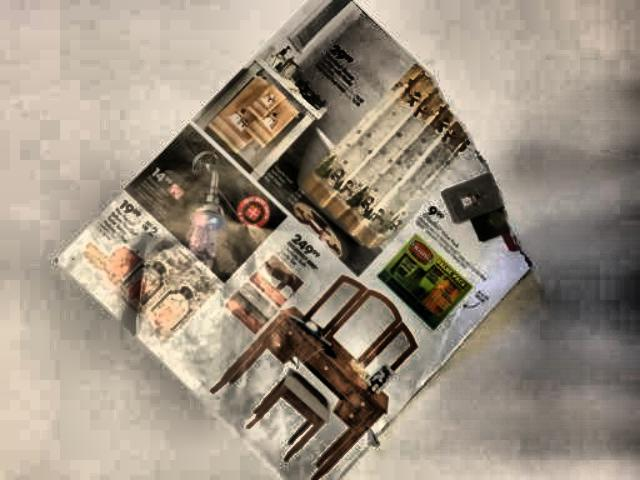Paper: (54, 0, 532, 480)
